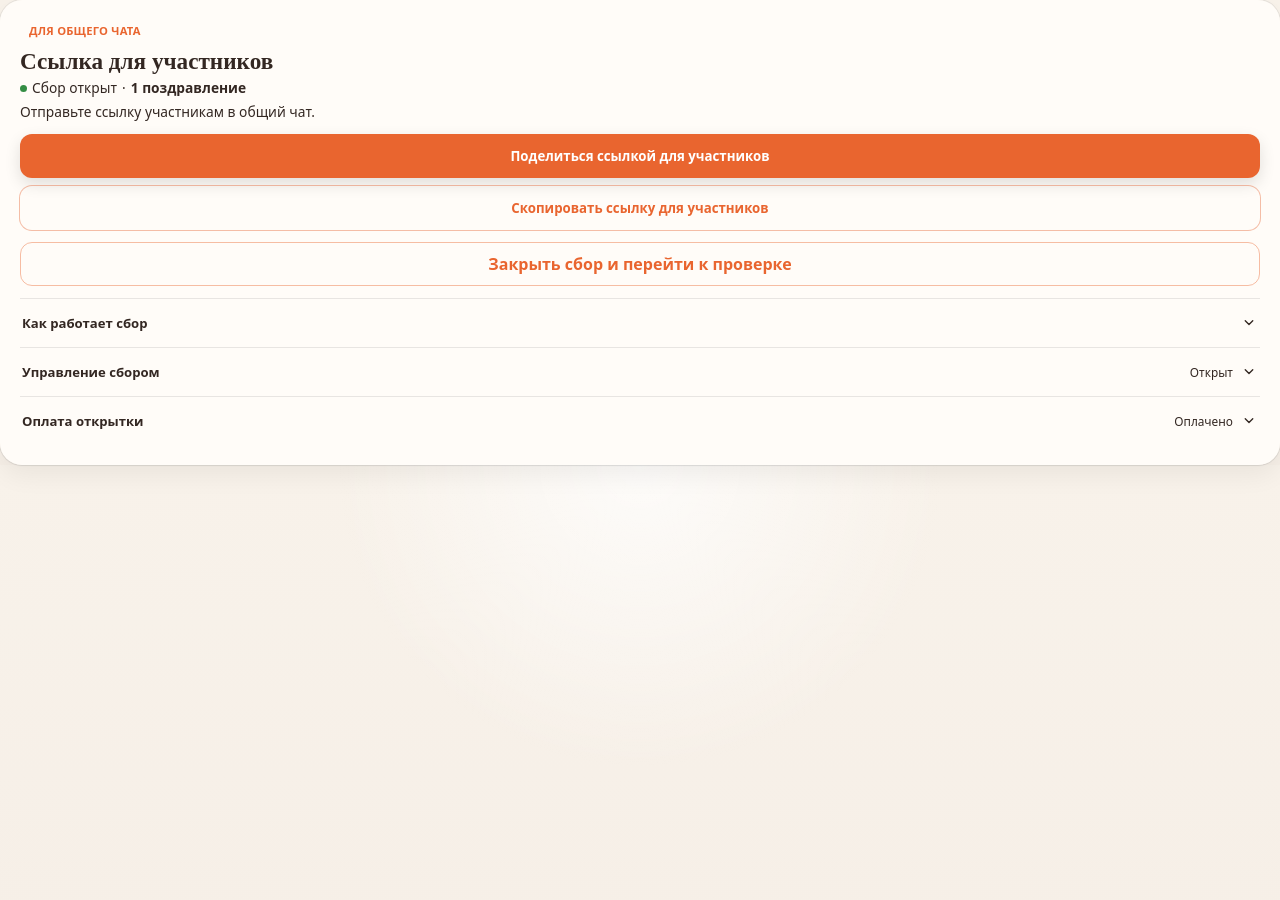
Test: ParticipantLinkCard › shows the existing paid state inside the payment disclosure
The image size is (1280, 900).
Expected: the text "Оплата подтверждена" is not shown
Click the button with aria-label "Оплата открытки, Оплачено": (83, 421) [20, 397, 1260, 445]
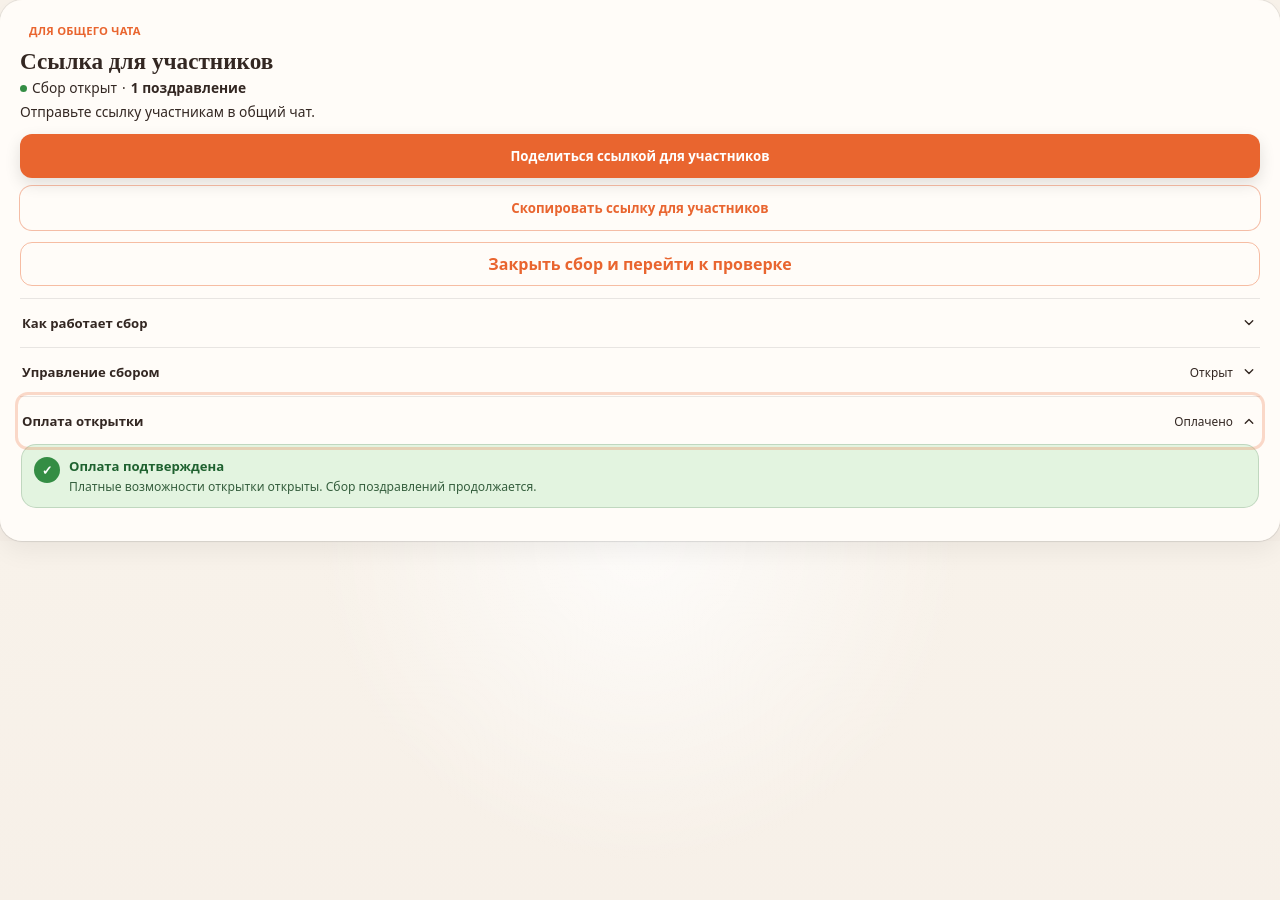
Now the text "Оплата подтверждена" is shown, box [69, 457, 224, 475]
